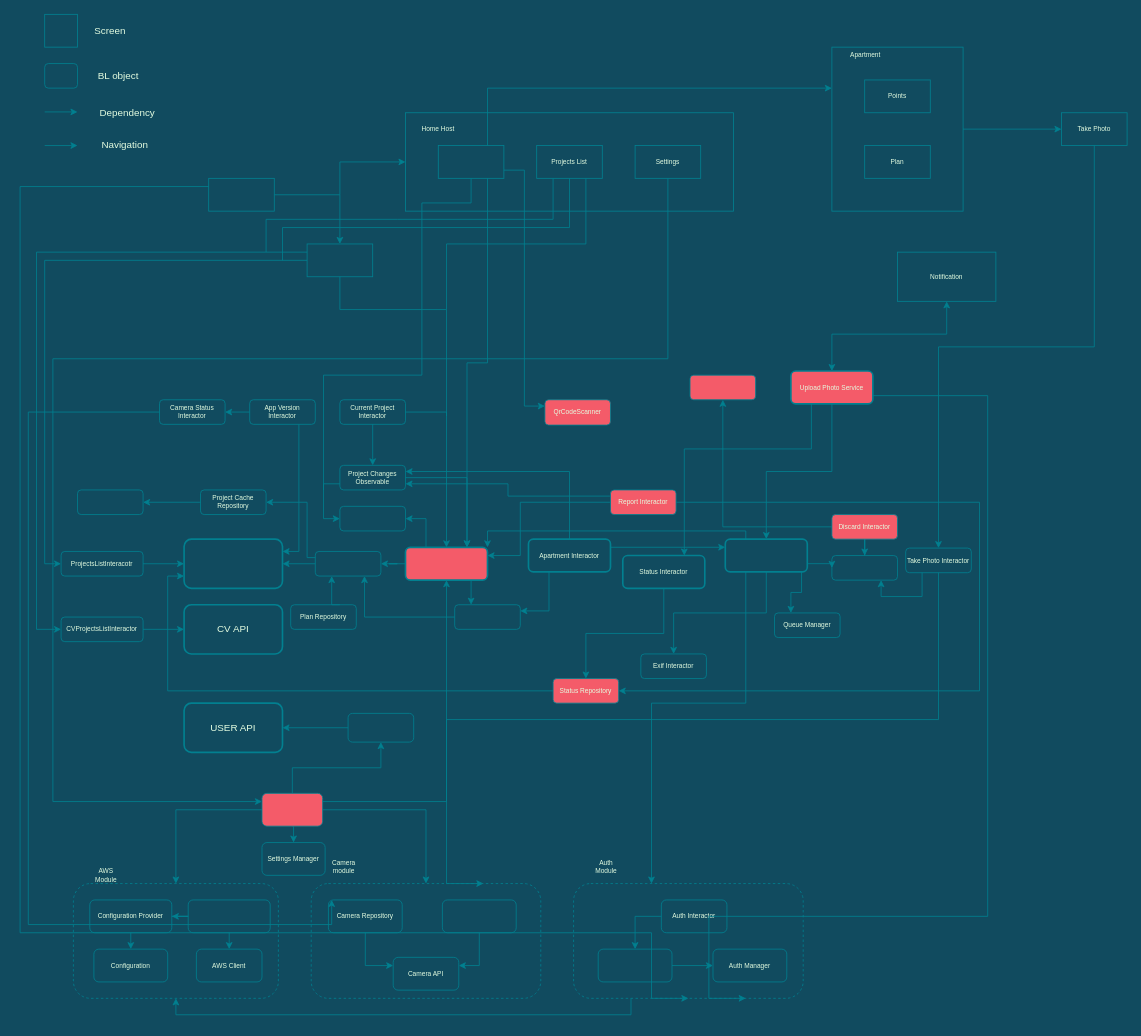
The diagram is 1141 pixels wide and 1036 high, and some of its shapes have lost their labels. Here are the shapes that lost their labels. From the top down, the box of each, then its label:
(437, 145, 504, 178): Project
(208, 178, 274, 211): Login
(306, 243, 373, 277): Select Project
(689, 374, 756, 400): Status Service
(77, 489, 143, 515): Project Manger
(339, 506, 405, 531): Project Id Pubisher
(183, 538, 283, 589): API
(314, 551, 381, 576): Project Repository
(404, 546, 488, 581): Project Interactor
(724, 538, 808, 572): Queue Interactor
(831, 555, 897, 580): Photo Manager
(454, 604, 520, 629): Project Status Updater
(347, 713, 414, 742): User Repository
(261, 793, 323, 826): Settings Interactor
(187, 899, 270, 933): AWS Wrapper
(442, 899, 516, 933): Camera Settings
(597, 948, 672, 982): Auth Repository
